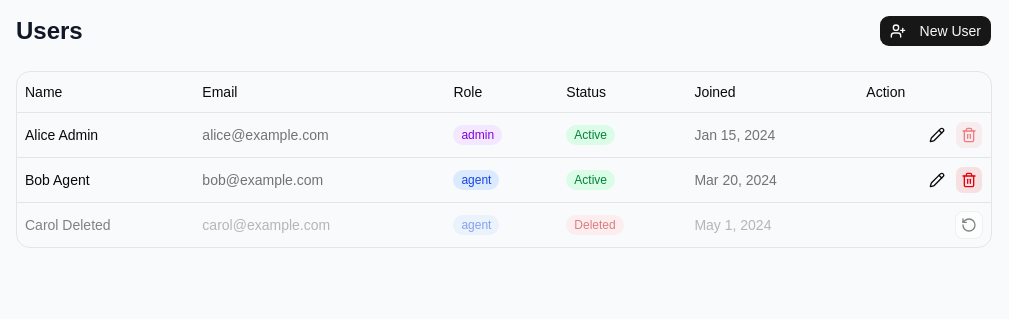
Test case: UsersPage › Restore user flow › shows a restore error alert when the restore POST fails
The width and height of the screenshot is (1009, 319).
Click the button titled "Restore user": (969,224) [955,210,983,238]
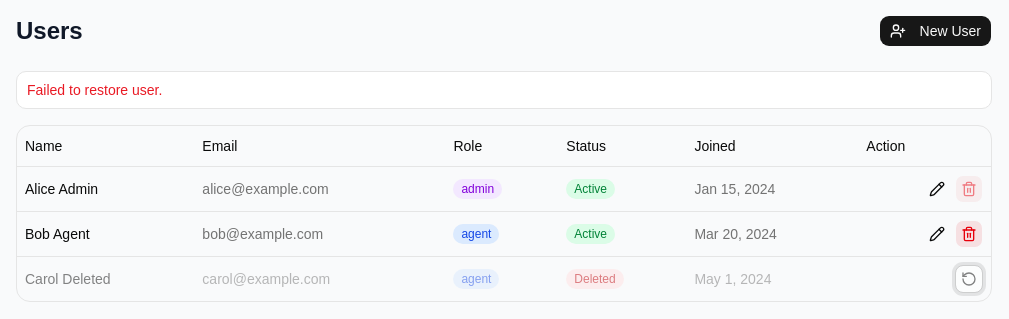
expect the text "Failed to restore user." is shown: met, box [27,82,162,98]
